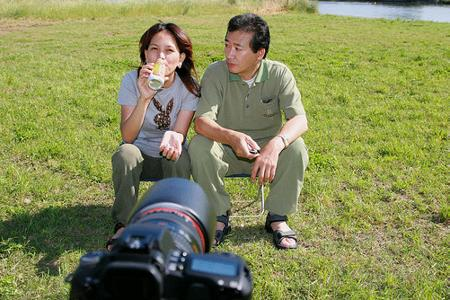person: (108, 20, 203, 252)
